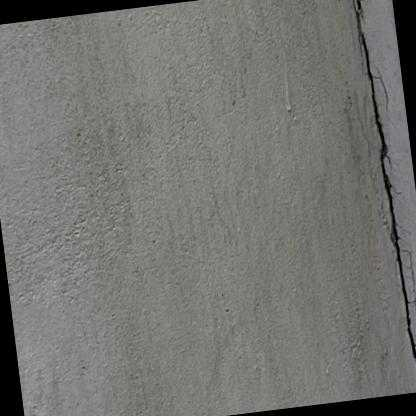crack: (355, 0, 416, 369)
